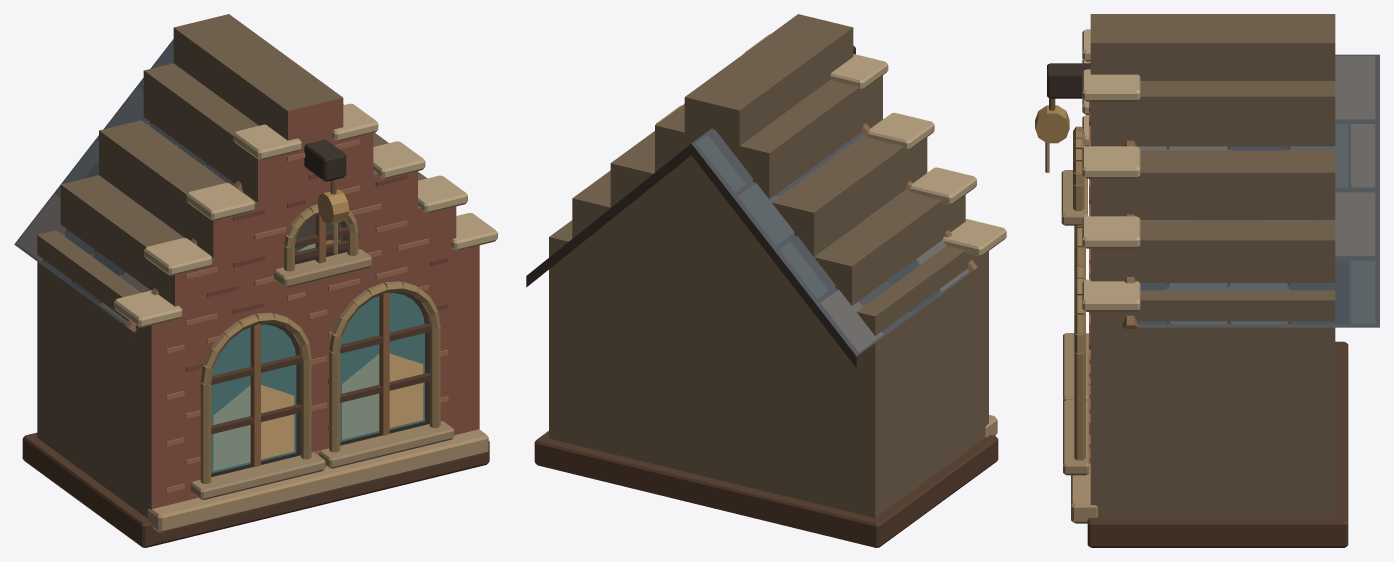
Rendered from gable_cloth_hall.glb.
3 renders of one model, left to right at view 1: azimuth 30°, elevation 25°; view 2: azimuth 150°, elevation 25°; view 3: azimuth 270°, elevation 25°, orthographic. The views are drawn at different scales.
Parts seen in each view (by area): view 1: gable_cloth_hall; view 2: gable_cloth_hall; view 3: gable_cloth_hall.
Boxes of the visible parts, <box> form: gable_cloth_hall: <box>14,14,497,547</box>; gable_cloth_hall: <box>526,14,1006,547</box>; gable_cloth_hall: <box>1035,14,1379,547</box>.
Size of the model in its own units: 1.68 by 1.8 by 1.31.
